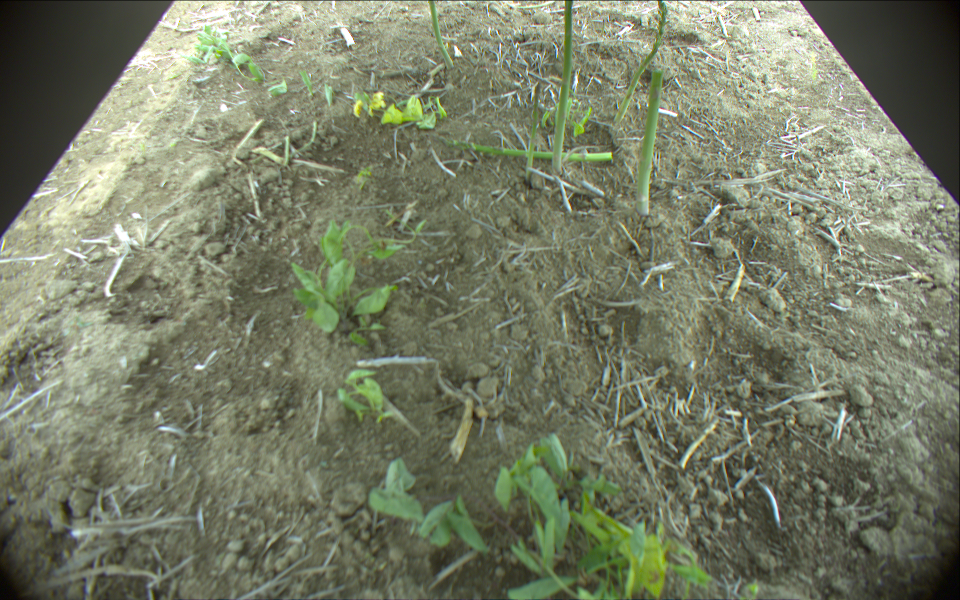aspa: (614, 1, 669, 122), (634, 69, 663, 218), (551, 1, 574, 175), (446, 139, 615, 161), (427, 1, 452, 69), (525, 81, 543, 171)
